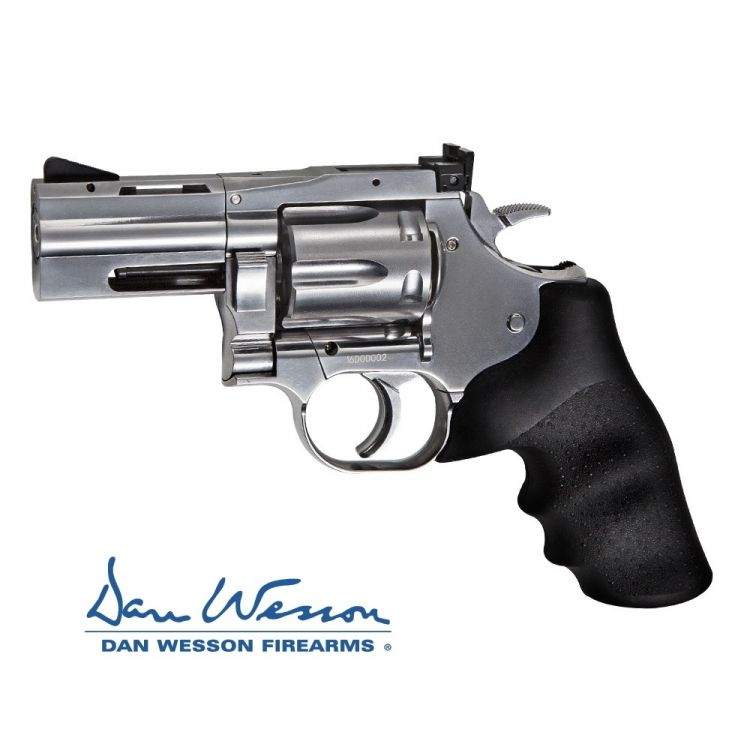Arma Real: (24, 141, 723, 602)
